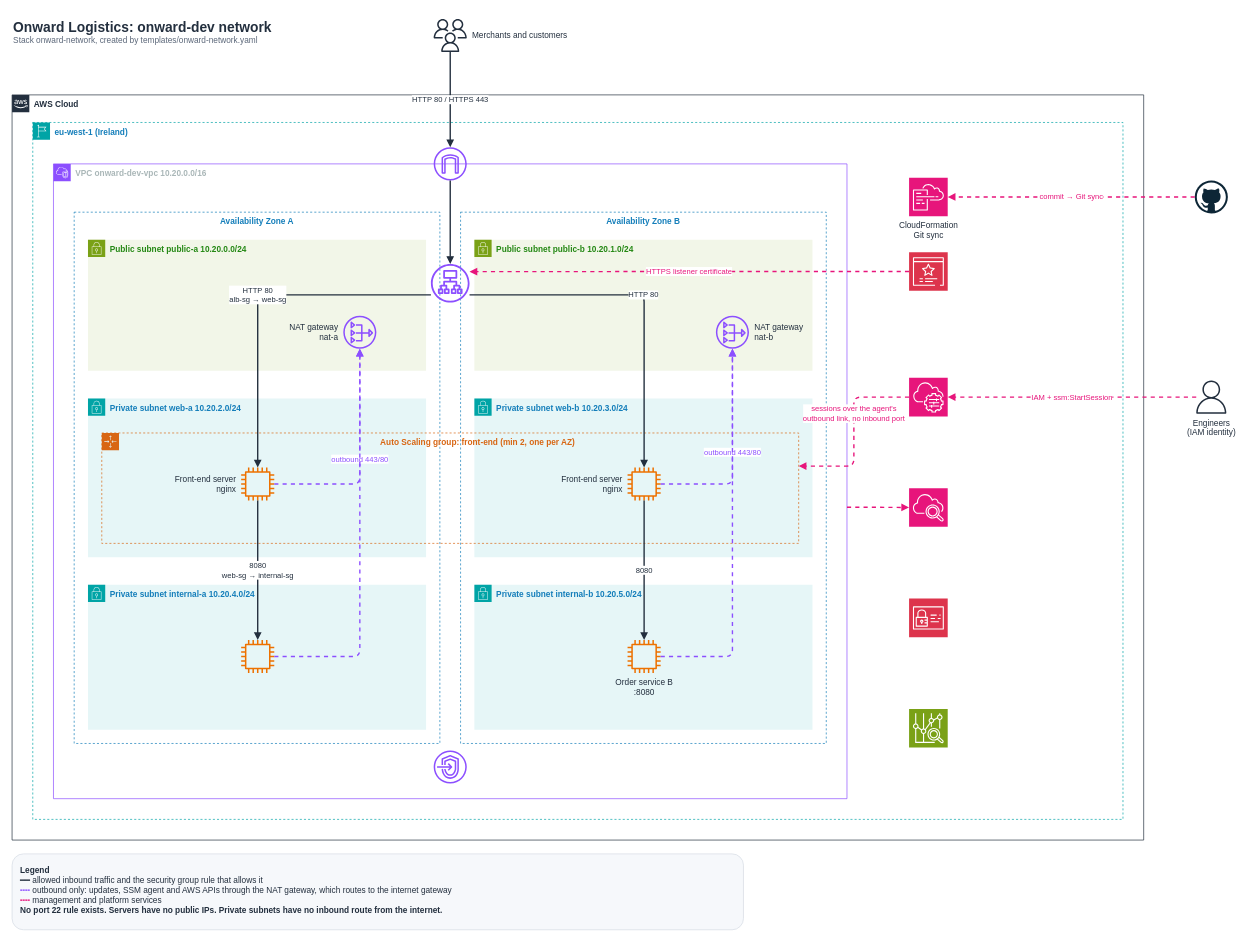
Image size: 1248x942. Some labels were removed from this diagram. Here are the shapes that lost their labels. From the top down, the centre of each, then its label:
point (449, 163): Internet gateway onward-dev-igw
point (1211, 197): GitHub repo main branch
point (450, 283): Application Load Balancer (nodes in both AZs)
point (928, 271): Certificate Manager TLS cert (when DomainName set)
point (928, 396): Systems Manager Session Manager
point (928, 507): CloudWatch Logs VPC Flow Logs
point (928, 617): IAM instance role, SessionOperatorsPolicy
point (257, 656): Order service A :8080
point (928, 728): AWS Budgets onward-dev-network-budget
point (449, 766): S3 gateway endpoint (Amazon Linux repos, free)
